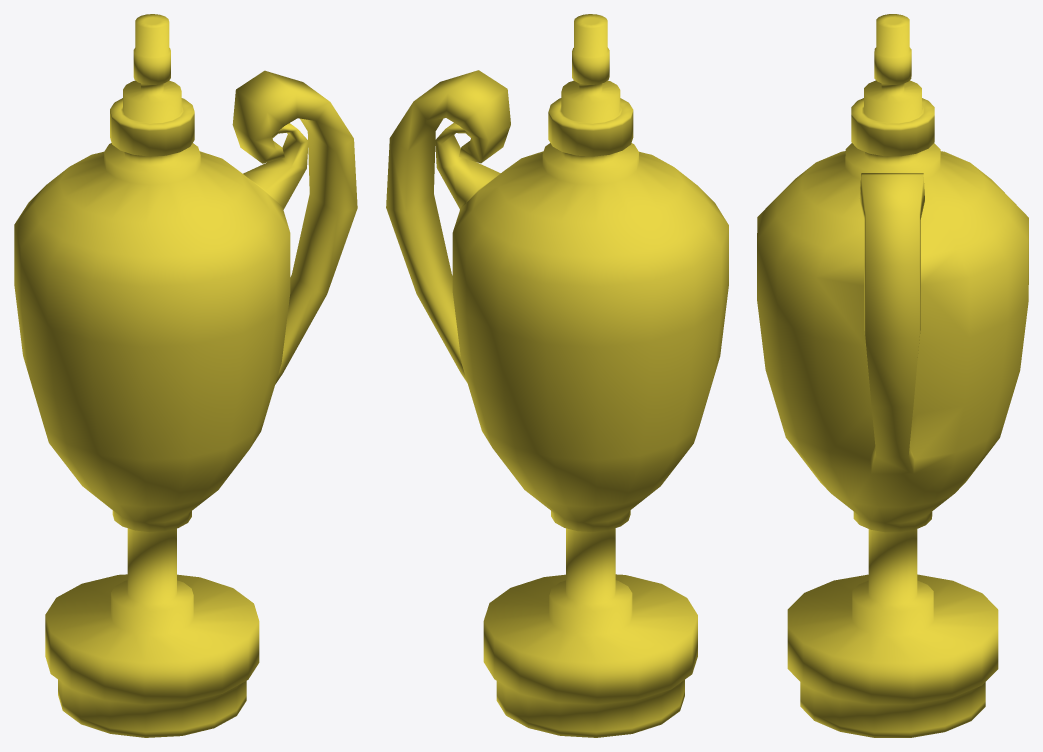
The model's file is trophy_2.glb.
3 views of the same model, side by side, from view 1: azimuth 30°, elevation 25°; view 2: azimuth 150°, elevation 25°; view 3: azimuth 270°, elevation 25° (orthographic).
Visible parts, largest first — view 1: Trophy; view 2: Trophy; view 3: Trophy.
Part boxes in pixels (x1,y1,x2,y2): Trophy: (14,14,357,737); Trophy: (386,14,728,737); Trophy: (757,14,1028,737).
Bounding box in the file's own units: 1.89 × 3.95 × 1.44.
